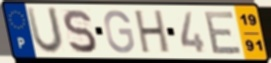4: (178, 10, 207, 55)
E: (203, 10, 244, 56)
G: (102, 8, 136, 55)
H: (134, 8, 172, 55)
S: (61, 7, 99, 55)
U: (25, 5, 66, 56)
